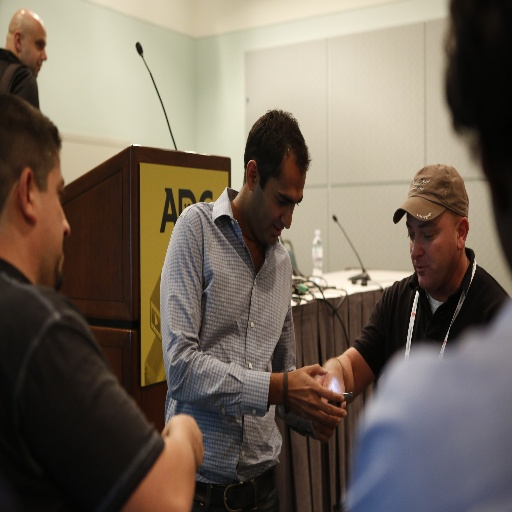hand: (160, 411, 204, 473), (309, 373, 344, 442)
